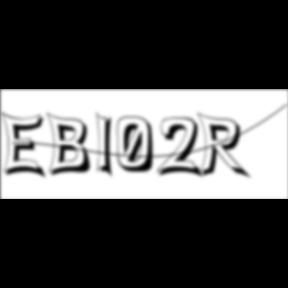0: (118, 115, 162, 174)
2: (157, 117, 207, 181)
B: (47, 111, 97, 179)
E: (1, 110, 50, 182)
I: (96, 110, 120, 182)
R: (196, 112, 254, 182)
